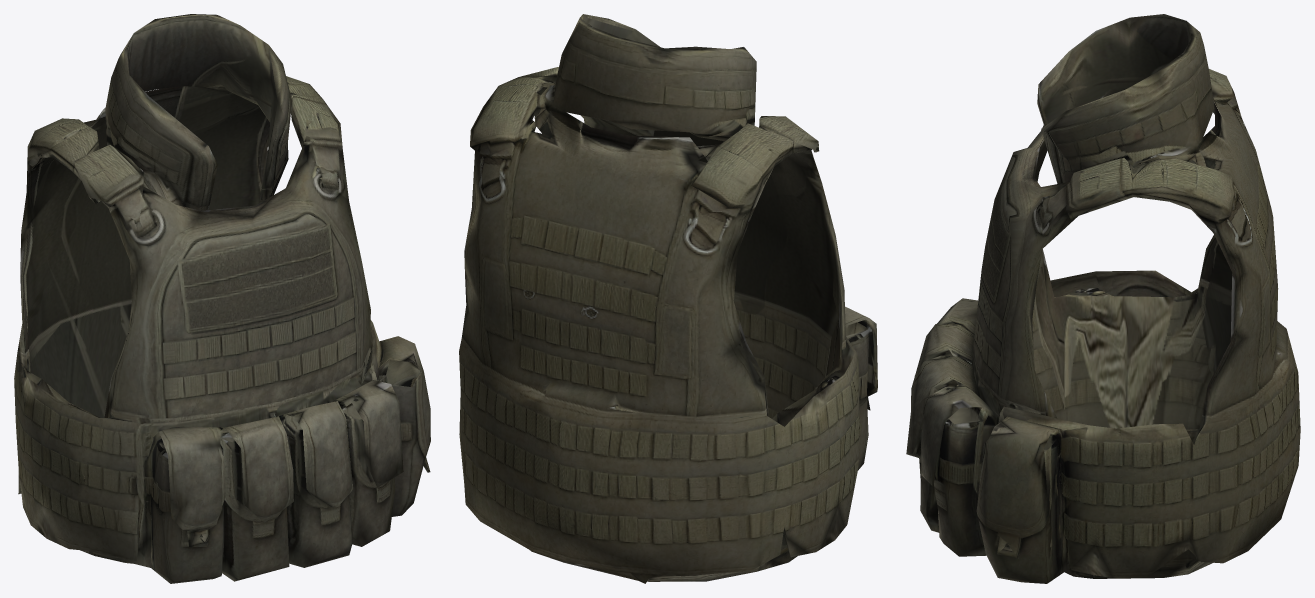
The model's file is Green Tactical Vest.fbx.
3 renders of one model, left to right at view 1: azimuth 30°, elevation 25°; view 2: azimuth 150°, elevation 25°; view 3: azimuth 270°, elevation 25°, orthographic. The views are drawn at different scales.
Parts seen in each view (by area): view 1: texture_mapping; view 2: texture_mapping; view 3: texture_mapping.
Boxes of the visible parts, x1=… form: texture_mapping: x1=14, y1=14, x2=430, y2=583; texture_mapping: x1=459, y1=14, x2=877, y2=583; texture_mapping: x1=906, y1=14, x2=1300, y2=583.
Size of the model in its own units: 0.7614 by 0.7442 by 1.
1 material, 1 textured.
